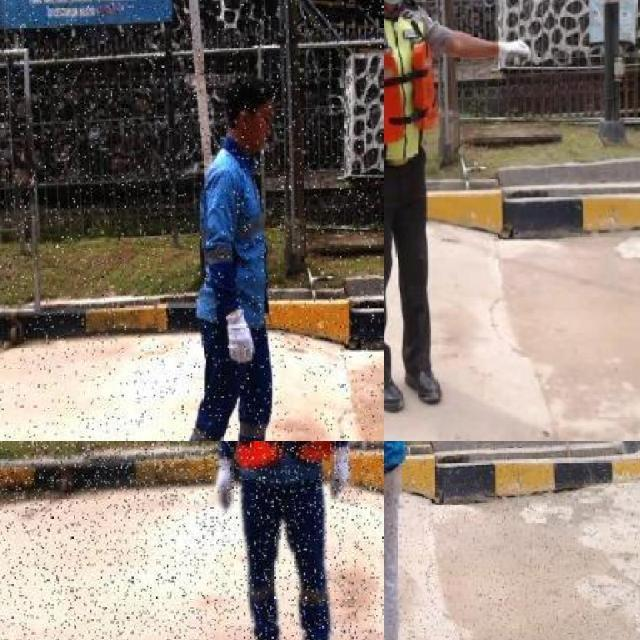apron: (222, 303, 264, 376), (326, 446, 354, 504), (214, 452, 238, 514), (492, 31, 534, 66)
